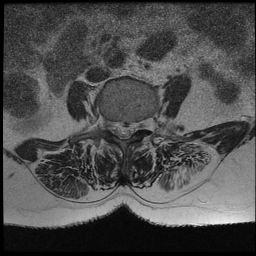CCS_normal: (120, 114, 127, 146)
LFS_normal: (134, 112, 142, 137)
LLS_normal: (127, 113, 134, 142)
RFS_normal: (105, 110, 113, 139)
RLS_normal: (113, 112, 120, 142)
